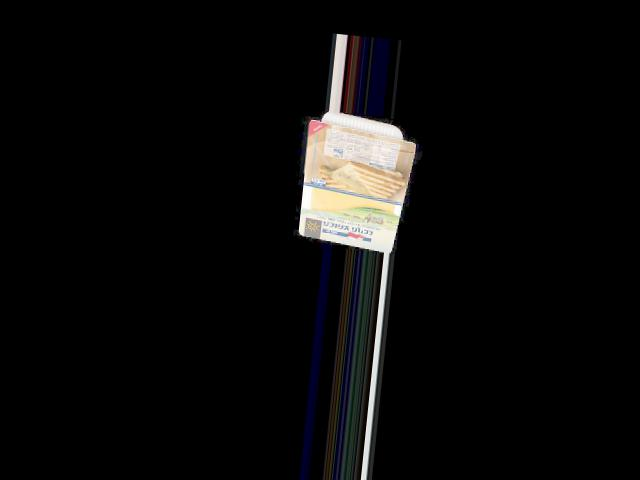cheese: (301, 109, 415, 253)
